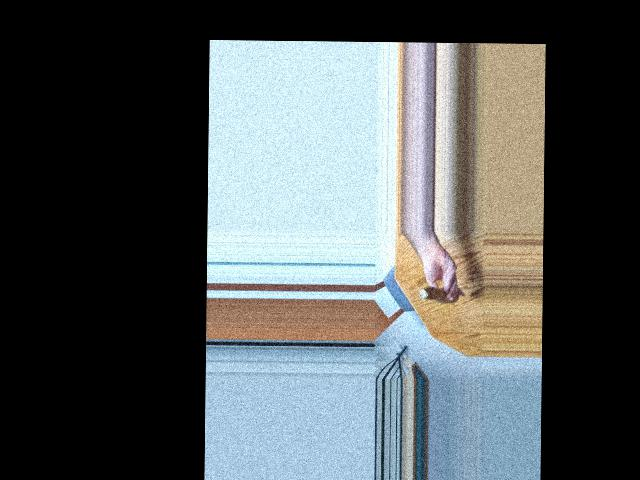sweet_potato: (425, 285, 457, 303)
